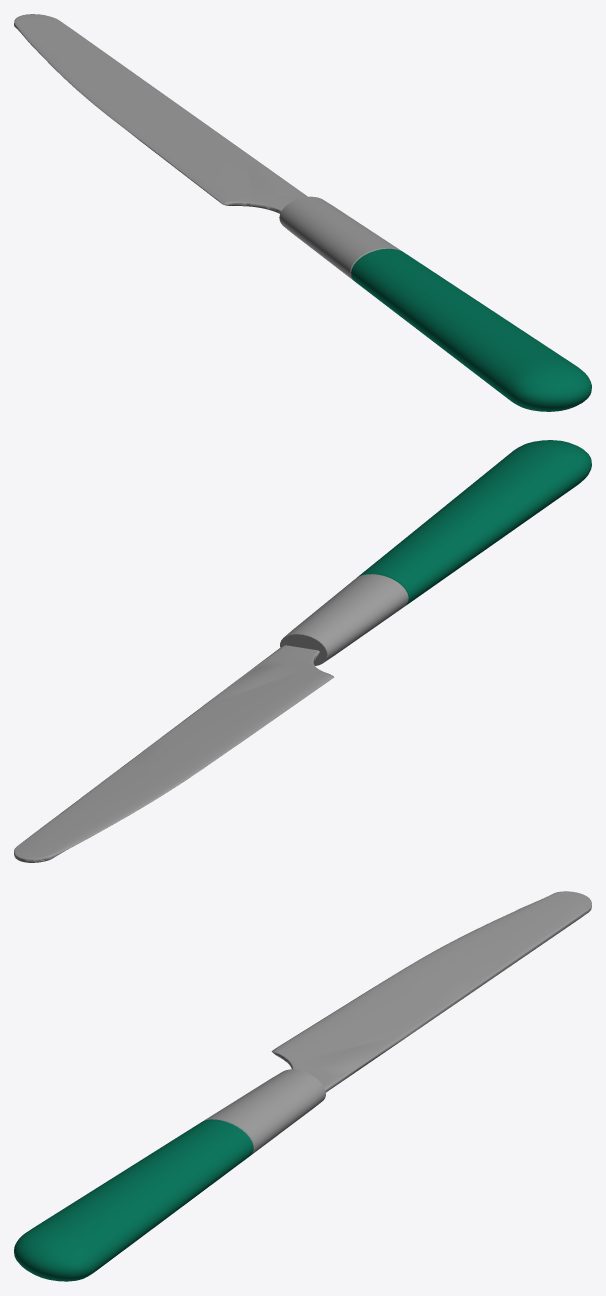
File: Knife.FBX
3 renders of one model, top to bottom at view 1: azimuth 30°, elevation 25°; view 2: azimuth 150°, elevation 25°; view 3: azimuth 330°, elevation 25°, orthographic. The views are drawn at different scales.
Visible parts, largest first — view 1: knife; view 2: knife; view 3: knife.
Boxes of the visible parts, x1,y1,x2,y2 form: knife: (14,14,591,411); knife: (14,440,591,862); knife: (14,891,591,1281).
Bounding box in the file's own units: 2.16 × 1.05 × 22.38.
